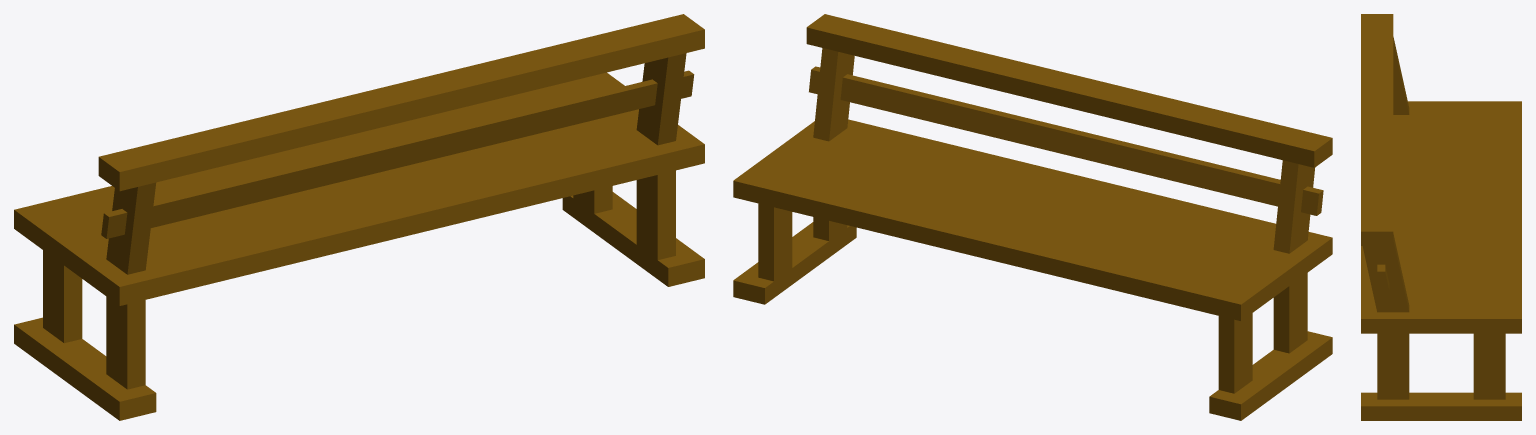
Rendered from obj_bench_2_0.obj.
3 views of the same model, side by side, from view 1: azimuth 30°, elevation 25°; view 2: azimuth 150°, elevation 25°; view 3: azimuth 270°, elevation 25° (orthographic). The views are drawn at different scales.
Bounding box in the file's own units: 2 × 0.8125 × 0.625.
